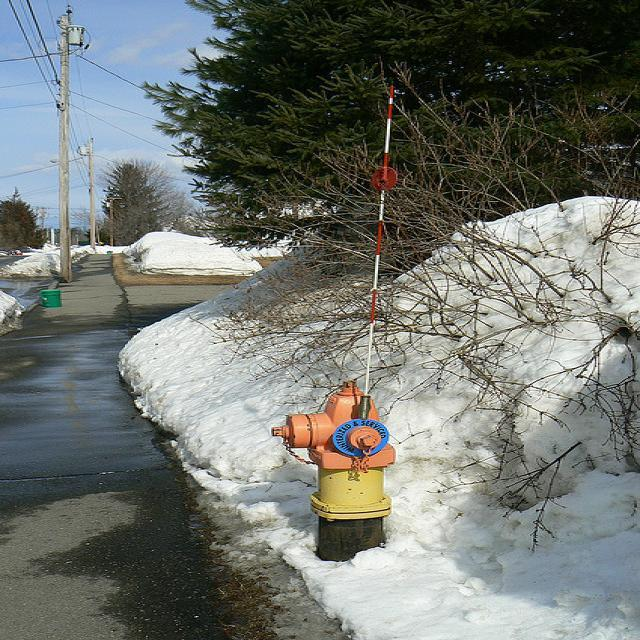fire_hydrant: (271, 385, 395, 513)
